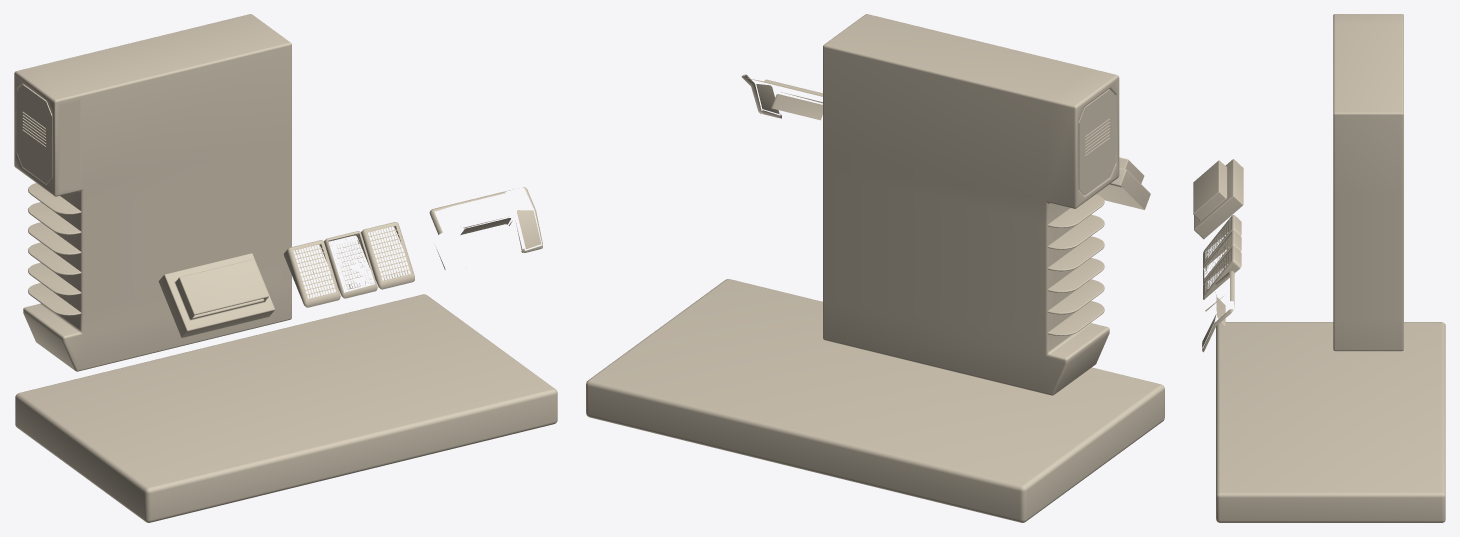
The picture shows the model from 3 angles, left to right: view 1: azimuth 30°, elevation 25°; view 2: azimuth 150°, elevation 25°; view 3: azimuth 270°, elevation 25°; orthographic projection. The views are drawn at different scales.
Parts seen in each view (by area): view 1: Object_20; view 2: Object_20; view 3: Object_20.
Part boxes in pixels (bbox=[...]): Object_20: bbox=[14, 14, 557, 522]; Object_20: bbox=[586, 14, 1164, 522]; Object_20: bbox=[1193, 14, 1445, 522].
Bounding box in the file's own units: 2.17 × 1.8 × 1.26.
